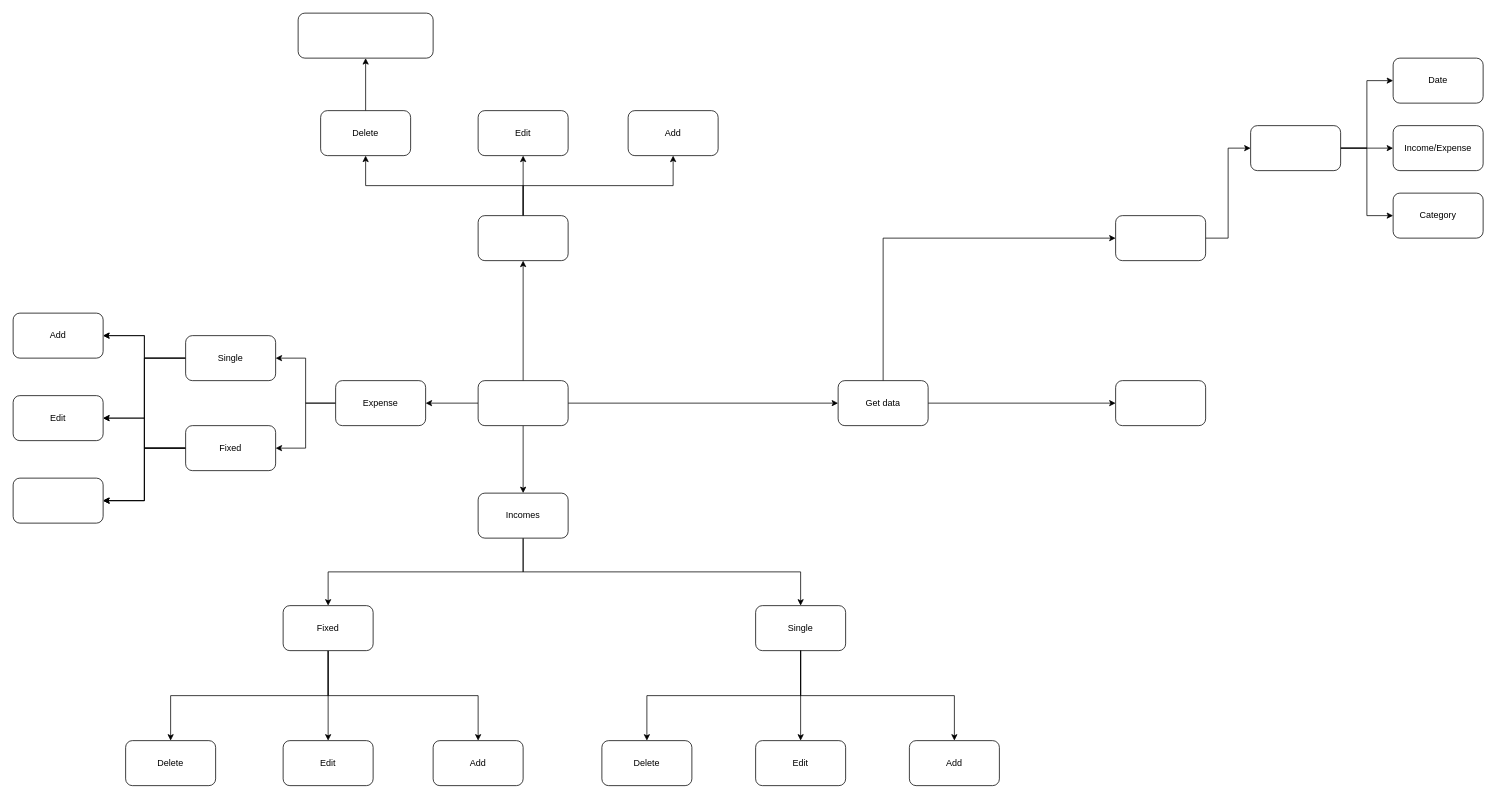
Some shapes in this 1496 by 799 pixel diagram are drawn without their labels. The shapes that lost their labels are listed below. From the top down, each one's centre as x and y in pixels, then its label:
At (365,35): "All data move to another category - User choose".
At (1295,148): "Filters".
At (522,238): "New category".
At (1160,238): "History".
At (522,403): "User".
At (1160,403): "Current balance".
At (57,500): "Remove".
